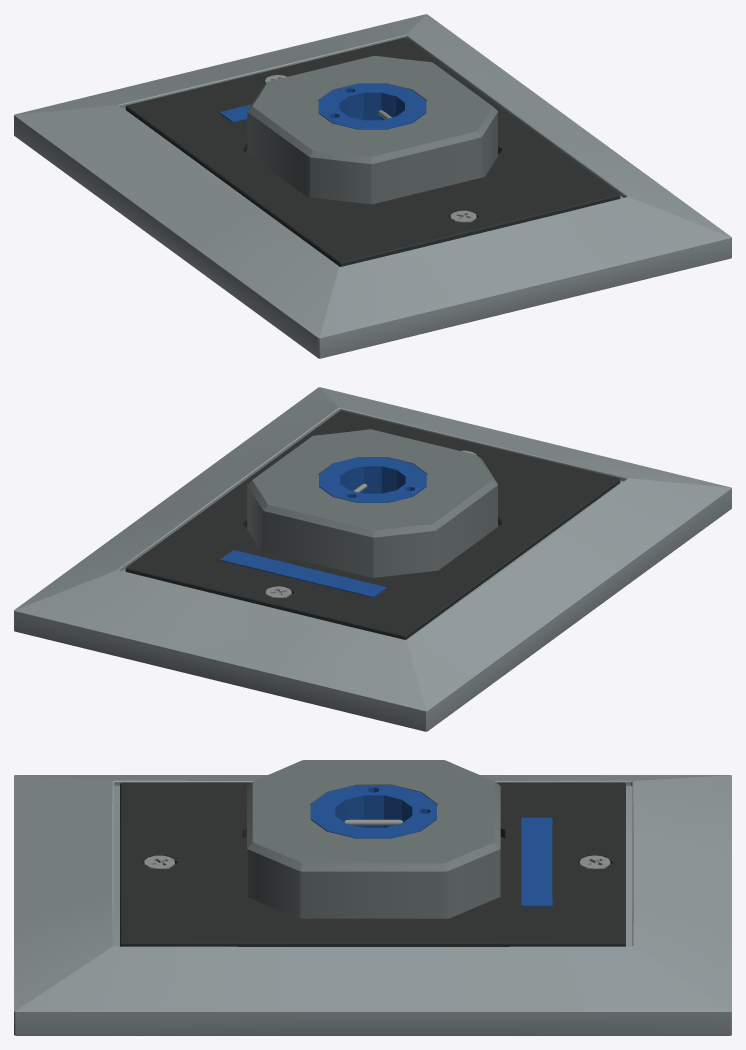
File: BlueGasOutlet.fbx
3 renders of one model, top to bottom at view 1: azimuth 30°, elevation 25°; view 2: azimuth 150°, elevation 25°; view 3: azimuth 270°, elevation 25°, orthographic. The views are drawn at different scales.
Visible parts, largest first — view 1: Object053; view 2: Object053; view 3: Object053.
Boxes of the visible parts, x1=… form: Object053: x1=14, y1=14, x2=731, y2=358; Object053: x1=14, y1=387, x2=731, y2=731; Object053: x1=14, y1=760, x2=731, y2=1035.
Bounding box in the file's own units: 9.56 × 2.04 × 12.24.
